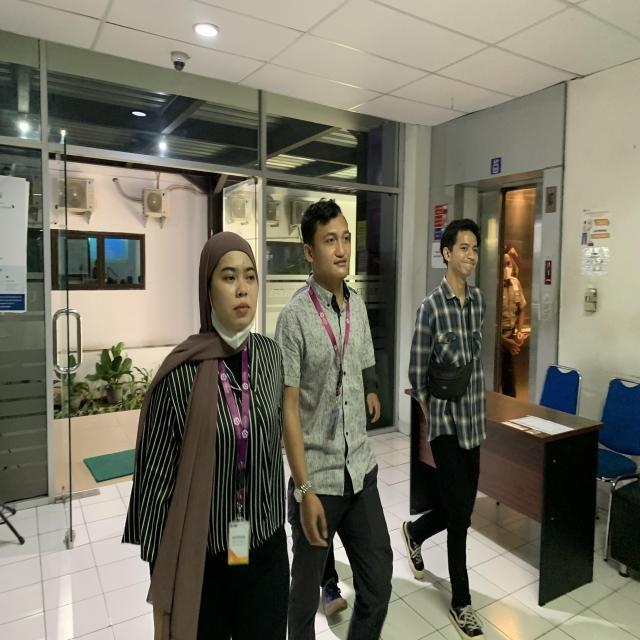hairnet: (201, 292, 265, 345)
